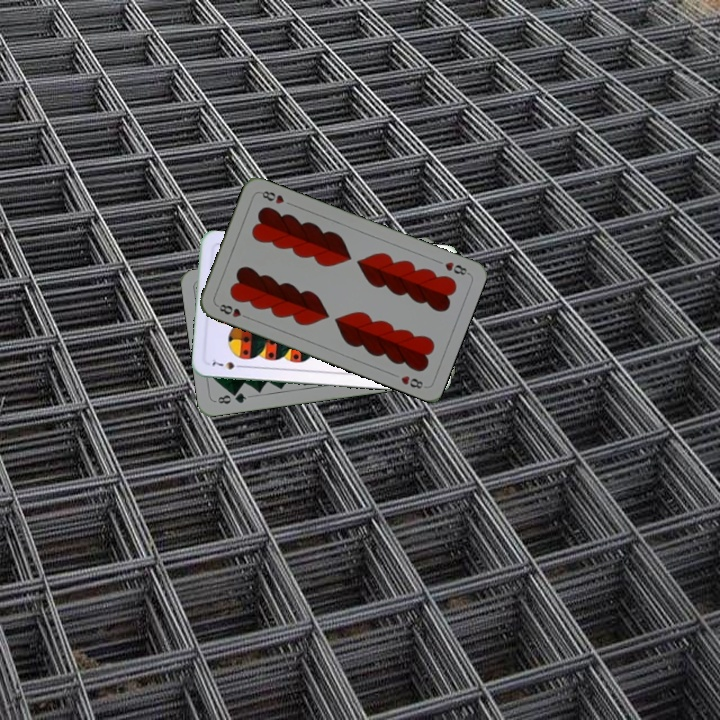G8: (214, 388, 249, 407)
H8: (213, 300, 252, 321), (441, 258, 471, 278)
S7: (208, 355, 247, 372)
